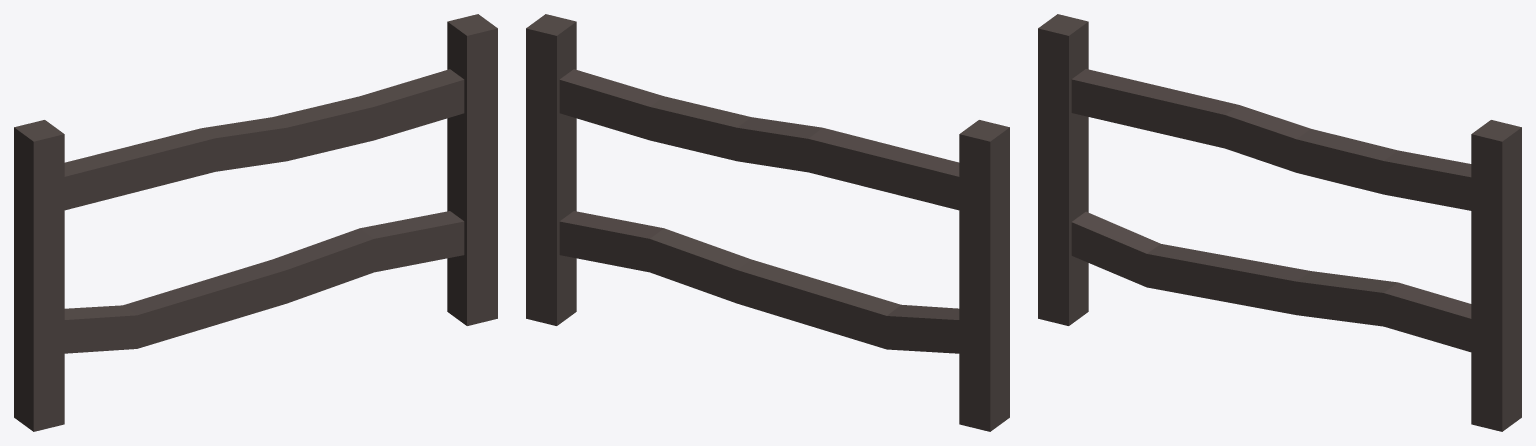
File: Fence_1.fbx
3 views of the same model, side by side, from view 1: azimuth 30°, elevation 25°; view 2: azimuth 150°, elevation 25°; view 3: azimuth 330°, elevation 25° (orthographic).
Visible parts, largest first — view 1: Fence_1; view 2: Fence_1; view 3: Fence_1.
Part boxes in pixels (x1,y1,x2,y2): Fence_1: (14, 14, 497, 431); Fence_1: (526, 14, 1009, 431); Fence_1: (1038, 14, 1521, 431).
Size of the model in its own units: 335 by 200 by 24.6.
Materials: 1 (1 with a texture image).
